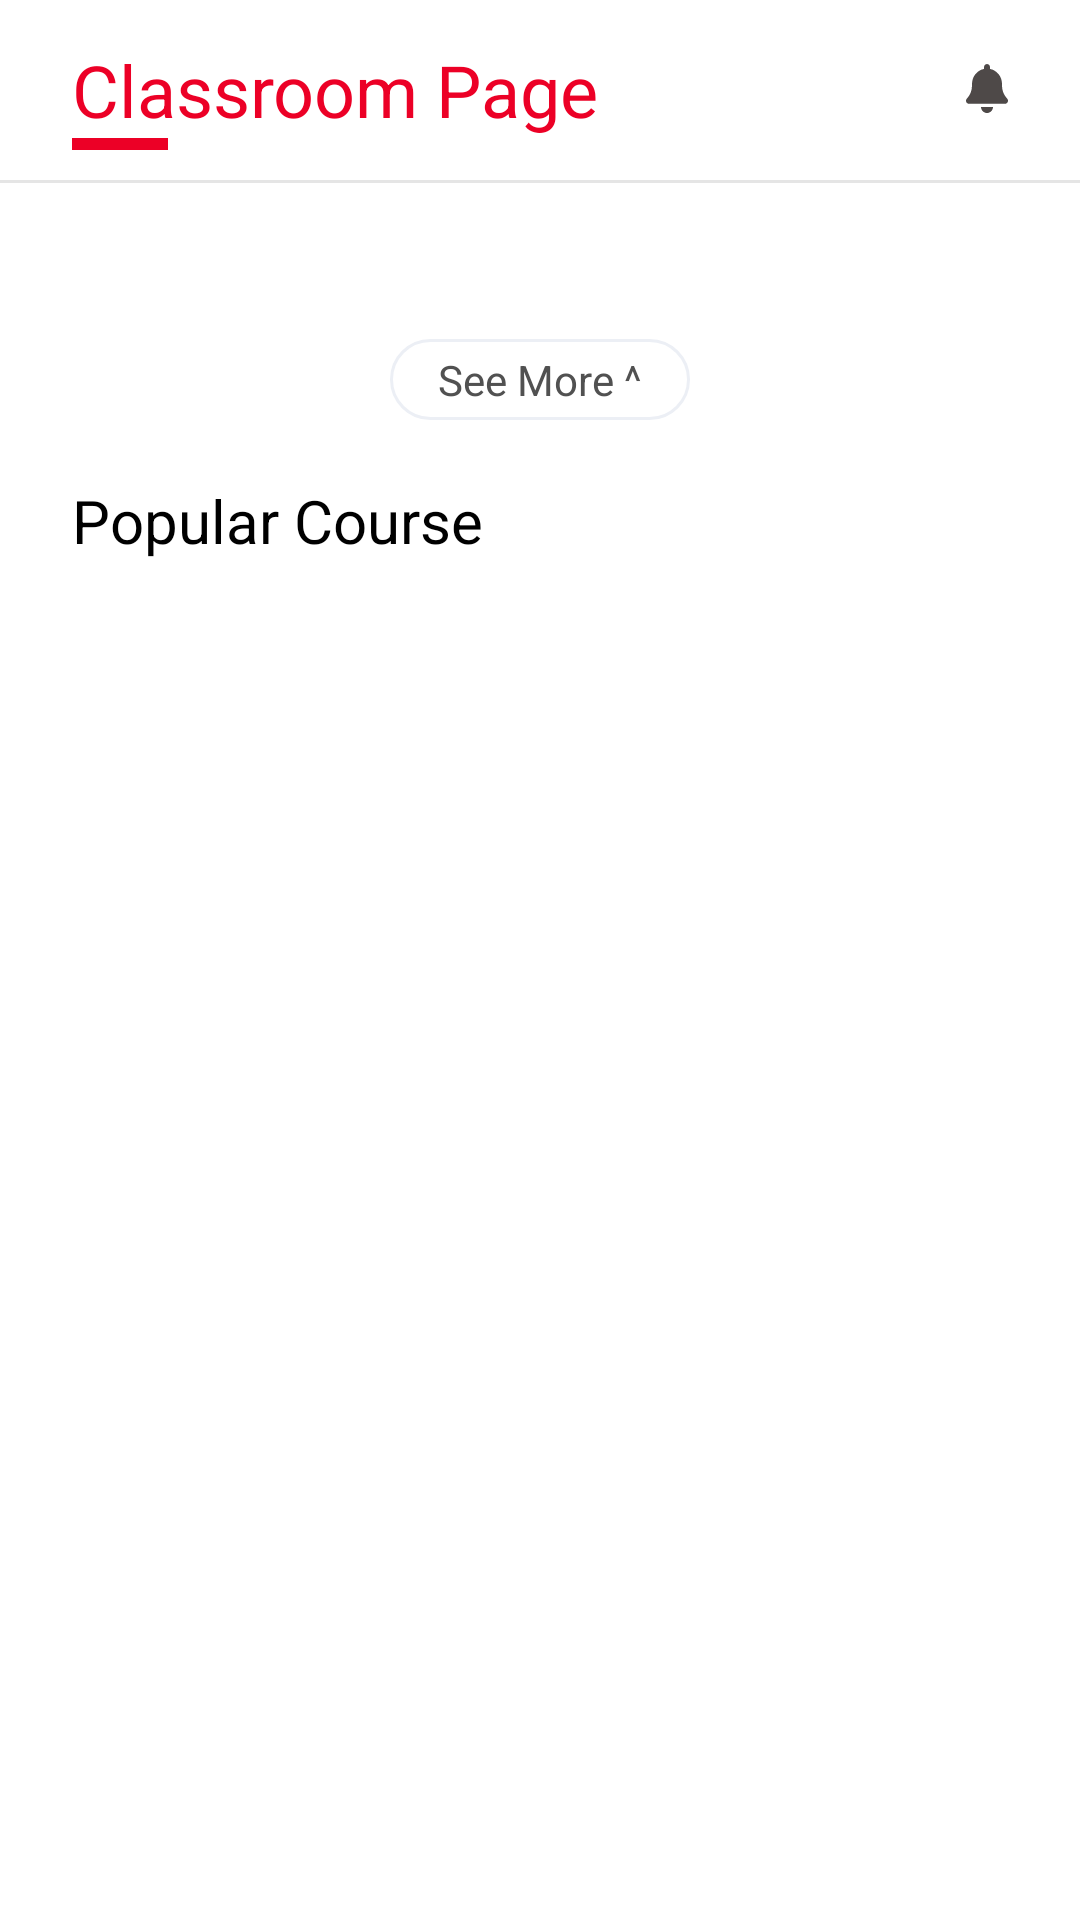

Screen size 1080px×1920px. Icon name, then its box in pixels as detection(x1, y1, x2, y2):
noti bell: detection(966, 64, 1008, 113)
